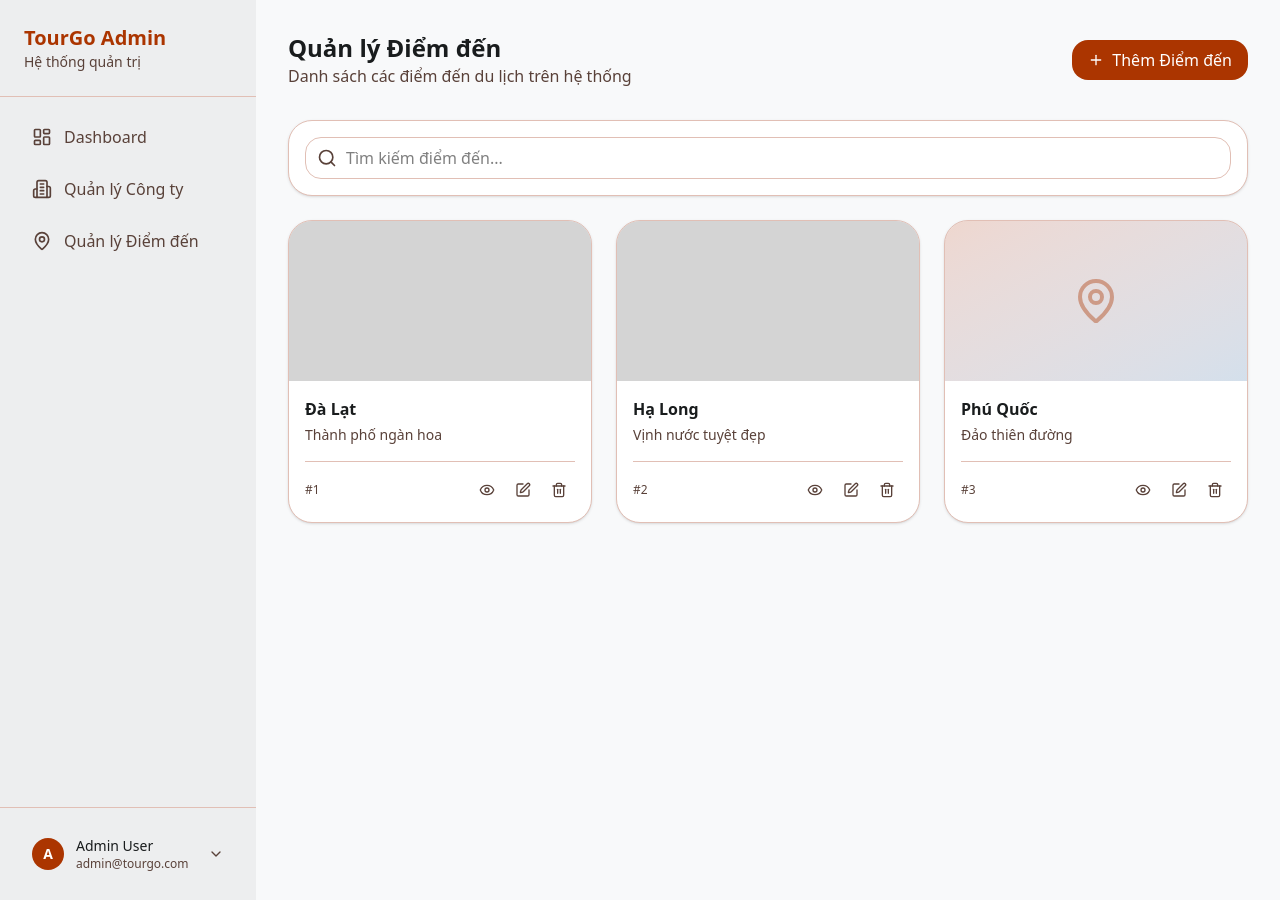
Test: DestinationsPage › opens add modal when add button clicked
The width and height of the screenshot is (1280, 900).
Expected: the heading "Đà Lạt" is shown, top-left (305, 398), bottom-right (356, 420)
Click the button "Thêm Điểm đến" at (1160, 60), box top-left (1072, 40), bottom-right (1248, 80)
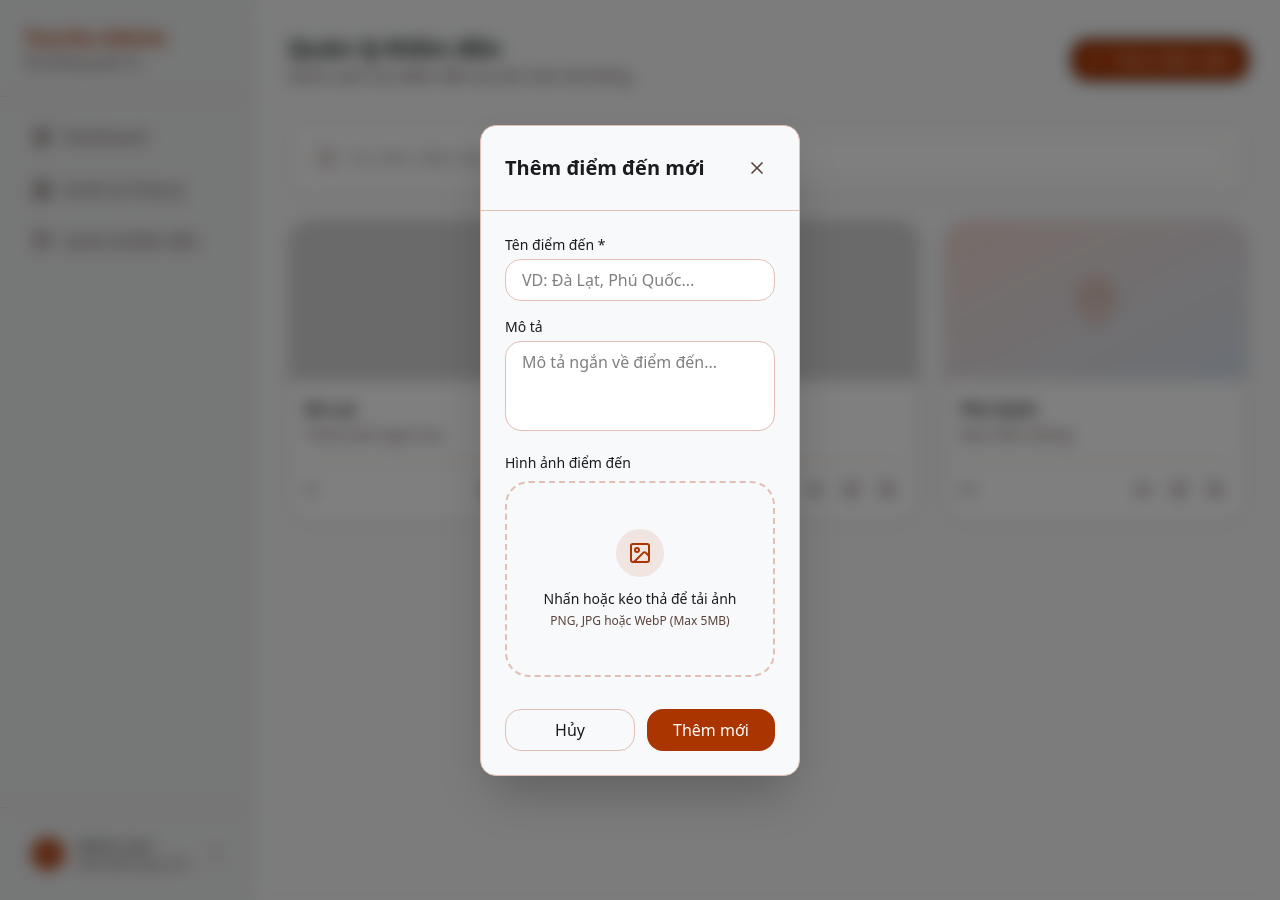
Now the heading "Thêm điểm đến mới" is shown, box top-left (505, 154), bottom-right (705, 182)
